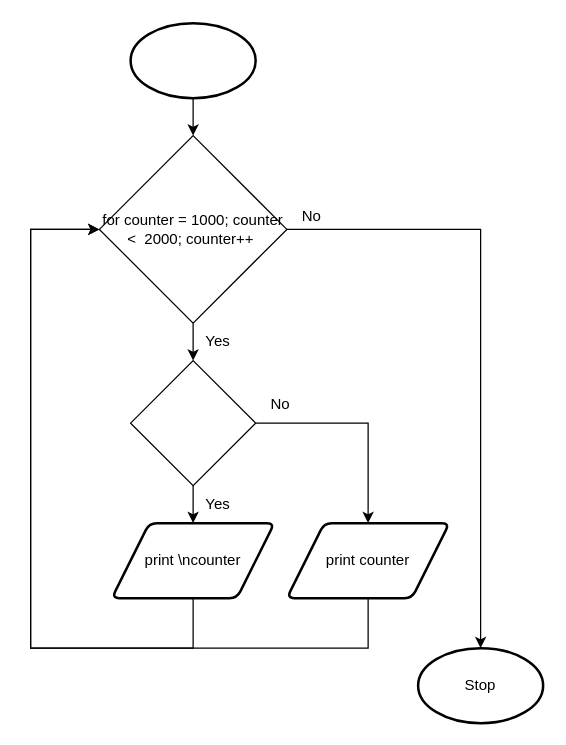
The diagram is 566 pixels wide and 745 high, and some of its shapes have lost their labels. Here are the shapes that lost their labels. From the top down, the centre of each, then its label:
At pixel 192 60: "Start".
At pixel 192 422: "if counter % 5 == 0".
